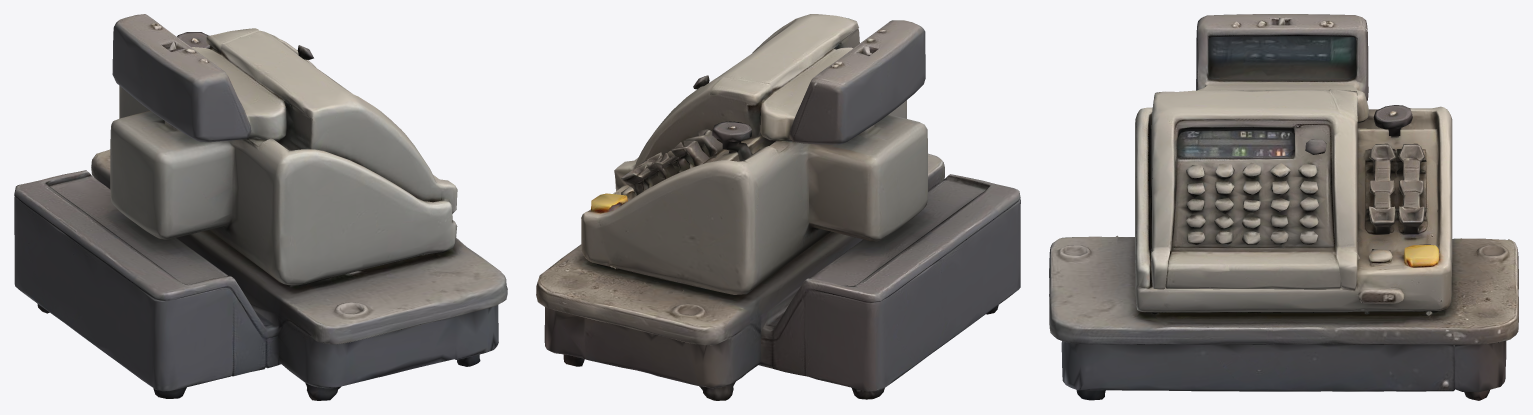
File: pharmacy_counter.glb
The picture shows the model from 3 angles, left to right: view 1: azimuth 30°, elevation 25°; view 2: azimuth 150°, elevation 25°; view 3: azimuth 270°, elevation 25°; orthographic projection. The views are drawn at different scales.
Visible parts, largest first — view 1: tripo_node_f22db8ff-5eeb-41d9-b2d7-3418c5b1eaee; view 2: tripo_node_f22db8ff-5eeb-41d9-b2d7-3418c5b1eaee; view 3: tripo_node_f22db8ff-5eeb-41d9-b2d7-3418c5b1eaee.
Boxes of the visible parts, box(x1,y1,x2,y2) form: tripo_node_f22db8ff-5eeb-41d9-b2d7-3418c5b1eaee: box(14, 14, 507, 400); tripo_node_f22db8ff-5eeb-41d9-b2d7-3418c5b1eaee: box(536, 14, 1020, 400); tripo_node_f22db8ff-5eeb-41d9-b2d7-3418c5b1eaee: box(1049, 14, 1518, 400).
Size of the model in its own units: 0.449 by 0.4 by 0.5943.
Materials: 1 (1 with a texture image).
